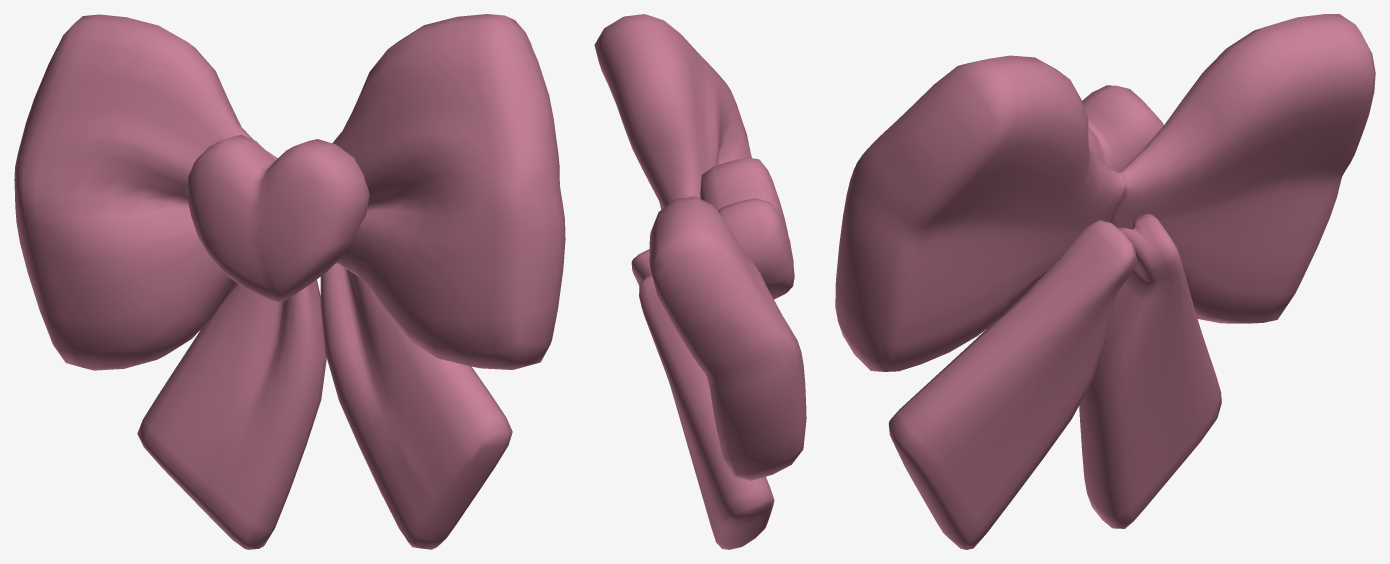
Rendered from Noeud.fbx.
3 views of the same model, side by side, from view 1: azimuth 30°, elevation 25°; view 2: azimuth 150°, elevation 25°; view 3: azimuth 270°, elevation 25° (orthographic). The views are drawn at different scales.
Parts seen in each view (by area): view 1: Noeaud; view 2: Noeaud; view 3: Noeaud.
Boxes of the visible parts, <box> form: Noeaud: <box>14,14,565,549</box>; Noeaud: <box>594,14,806,549</box>; Noeaud: <box>835,14,1375,549</box>.
Size of the model in its own units: 17.11 by 23.55 by 20.97.
